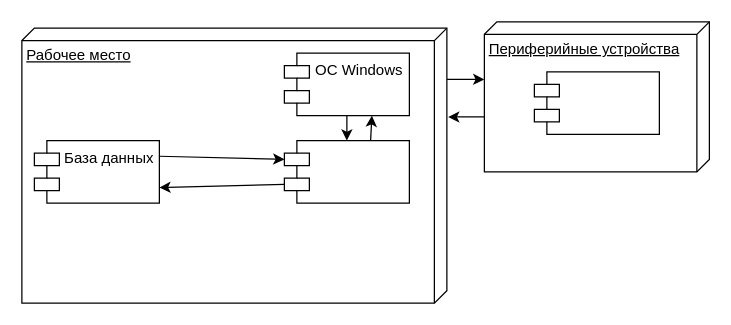
This 731x325 diagram has some shape labels left out. Here are the shapes that lost their labels. From the top down, the centre of each, then its label:
At (596,102): "Принтер".
At (346,171): "Программа ИС".
